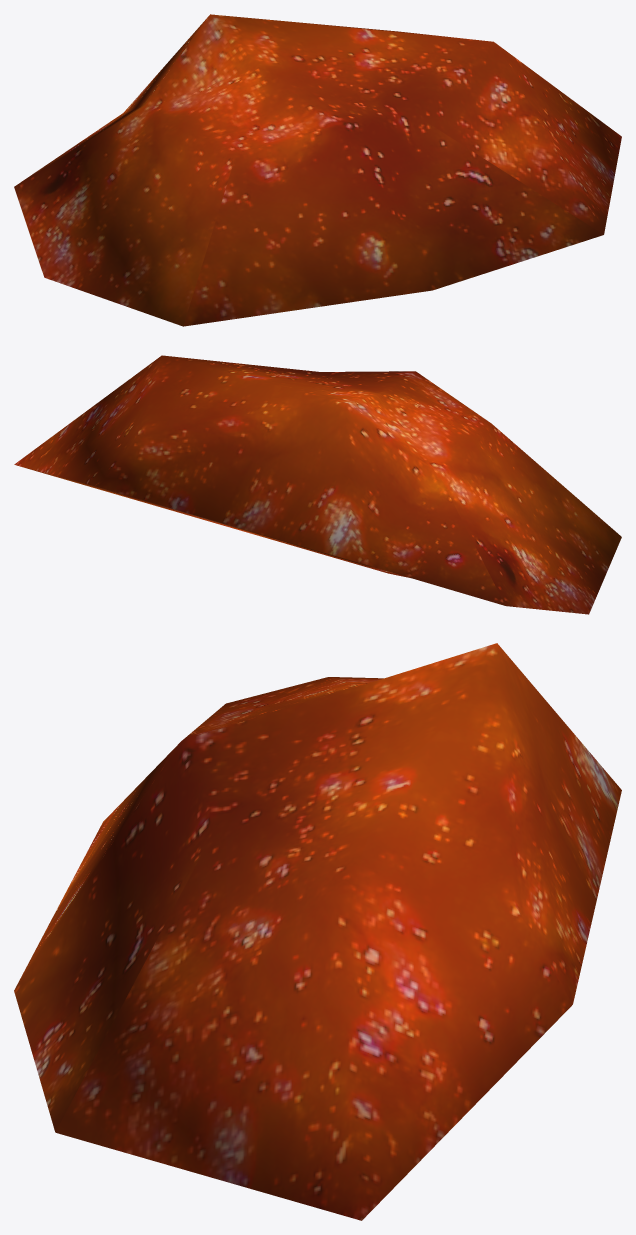
Rendered from SoyMeat.fbx.
3 renders of one model, top to bottom at view 1: azimuth 30°, elevation 25°; view 2: azimuth 150°, elevation 25°; view 3: azimuth 270°, elevation 25°, orthographic. The views are drawn at different scales.
Visible parts, largest first — view 1: soymeat; view 2: soymeat; view 3: soymeat.
Boxes of the visible parts, box(x1,y1,x2,y2) form: soymeat: box(14, 14, 621, 326); soymeat: box(14, 355, 621, 614); soymeat: box(14, 643, 621, 1220).
Bounding box in the file's own units: 33.01 × 10.56 × 18.99.
